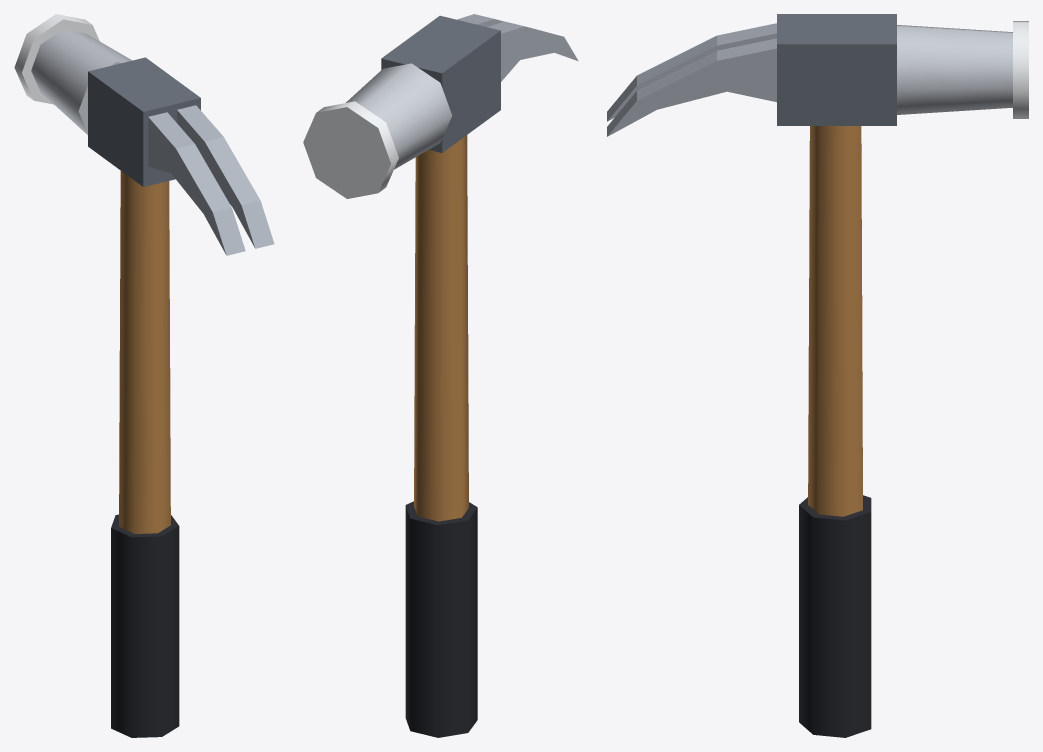
The model's file is tool_hammer.glb.
3 renders of one model, left to right at view 1: azimuth 30°, elevation 25°; view 2: azimuth 150°, elevation 25°; view 3: azimuth 270°, elevation 25°, orthographic. The views are drawn at different scales.
Visible parts, largest first — view 1: _MeshInstance3D_1270, _MeshInstance3D_1272, _MeshInstance3D_1273, _MeshInstance3D_1276, _MeshInstance3D_1274, _MeshInstance3D_1277, _MeshInstance3D_1275; view 2: _MeshInstance3D_1270, _MeshInstance3D_1272, _MeshInstance3D_1273, _MeshInstance3D_1275, _MeshInstance3D_1274, _MeshInstance3D_1276; view 3: _MeshInstance3D_1270, _MeshInstance3D_1272, _MeshInstance3D_1273, _MeshInstance3D_1274, _MeshInstance3D_1277, _MeshInstance3D_1276, _MeshInstance3D_1275.
Boxes of the visible parts, x1,y1,x2,y2 form: _MeshInstance3D_1270: (119,171,170,533); _MeshInstance3D_1272: (111,514,179,737); _MeshInstance3D_1273: (88,57,200,186); _MeshInstance3D_1276: (148,112,245,255); _MeshInstance3D_1274: (31,29,132,134); _MeshInstance3D_1277: (177,105,274,248); _MeshInstance3D_1275: (14,14,99,104); _MeshInstance3D_1270: (414,135,468,521); _MeshInstance3D_1272: (405,501,477,737); _MeshInstance3D_1273: (381,15,500,152); _MeshInstance3D_1275: (303,101,398,198); _MeshInstance3D_1274: (346,63,452,169); _MeshInstance3D_1276: (487,21,578,81); _MeshInstance3D_1270: (808,126,862,516); _MeshInstance3D_1272: (799,495,871,737); _MeshInstance3D_1273: (777,14,896,125); _MeshInstance3D_1274: (897,25,1012,114); _MeshInstance3D_1277: (607,38,776,136); _MeshInstance3D_1276: (607,23,776,121); _MeshInstance3D_1275: (1013,21,1028,118).
Size of the model in its own units: 0.052 by 0.386 by 0.211.
